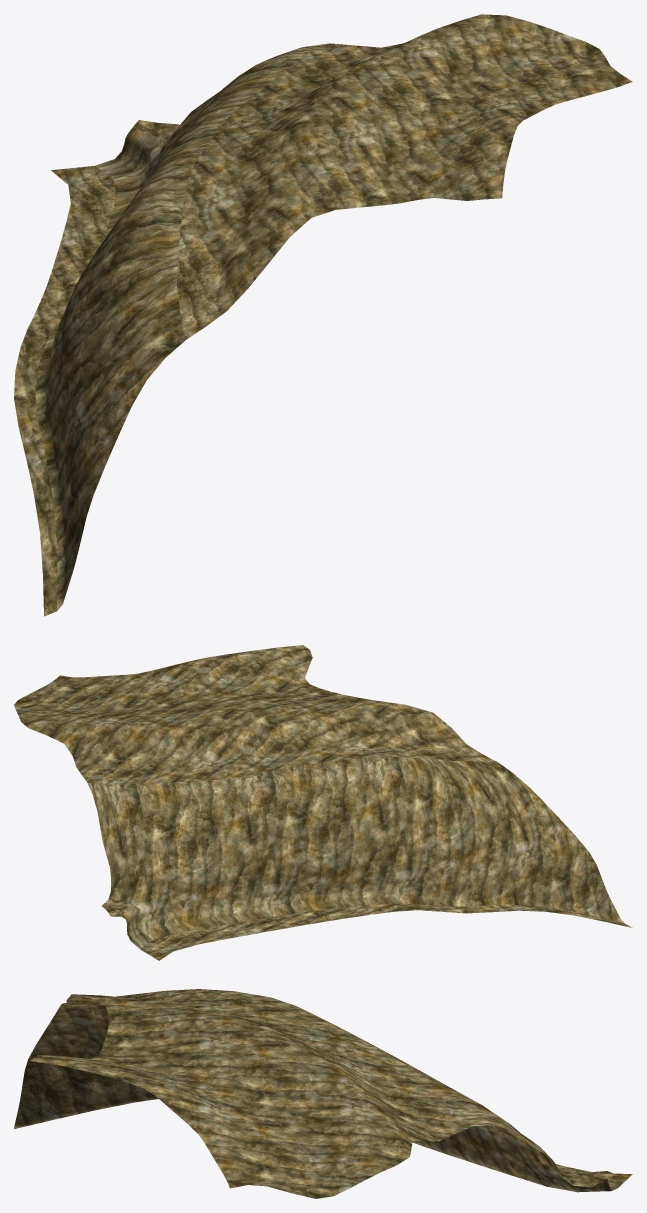
The model's file is RM_PLAYSURFACE_FINAL_OBJECT02.fbx.
3 renders of one model, top to bottom at view 1: azimuth 30°, elevation 25°; view 2: azimuth 150°, elevation 25°; view 3: azimuth 270°, elevation 25°, orthographic. The views are drawn at different scales.
Visible parts, largest first — view 1: RM_PLAYSURFACE_FINAL_OBJECT02; view 2: RM_PLAYSURFACE_FINAL_OBJECT02; view 3: RM_PLAYSURFACE_FINAL_OBJECT02.
Boxes of the visible parts, x1,y1,x2,y2 form: RM_PLAYSURFACE_FINAL_OBJECT02: [14, 14, 632, 616]; RM_PLAYSURFACE_FINAL_OBJECT02: [14, 645, 632, 960]; RM_PLAYSURFACE_FINAL_OBJECT02: [14, 989, 632, 1198].
Bounding box in the file's own units: 325805 × 132828 × 264998.
3 materials, 3 textured.
